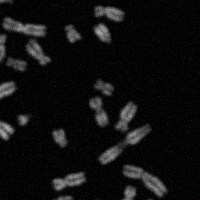chromosome: (97, 125, 152, 164), (122, 164, 167, 197), (1, 17, 48, 36), (25, 38, 50, 66), (115, 101, 137, 132), (89, 96, 109, 127), (0, 81, 16, 117), (52, 172, 85, 189), (93, 6, 124, 22), (94, 77, 114, 96), (64, 23, 82, 43), (94, 24, 112, 44), (0, 118, 15, 141), (118, 184, 136, 200), (7, 57, 26, 72), (52, 129, 67, 147), (17, 114, 34, 126), (0, 34, 6, 63), (40, 196, 73, 200), (0, 0, 13, 4), (131, 198, 155, 200), (89, 199, 122, 200)
